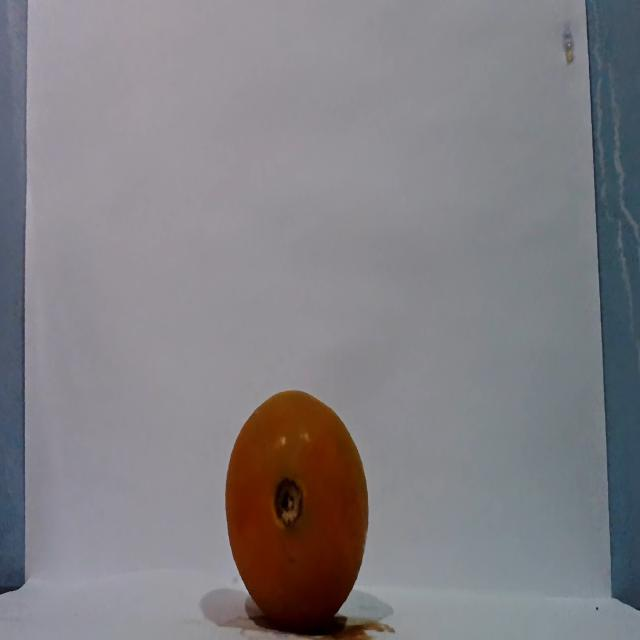Red: (223, 388, 369, 627)
